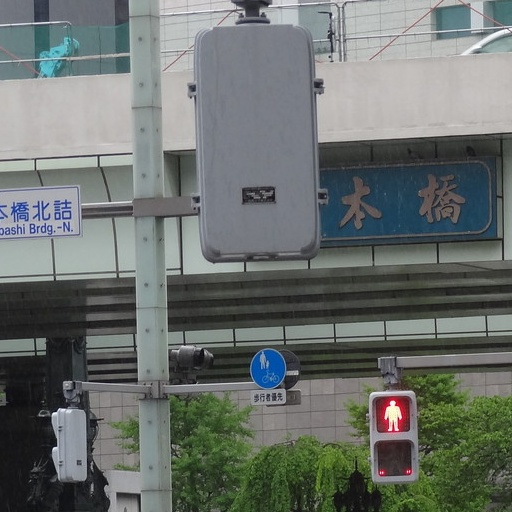Pedestrian_Signal_Red: (359, 381, 424, 484)
